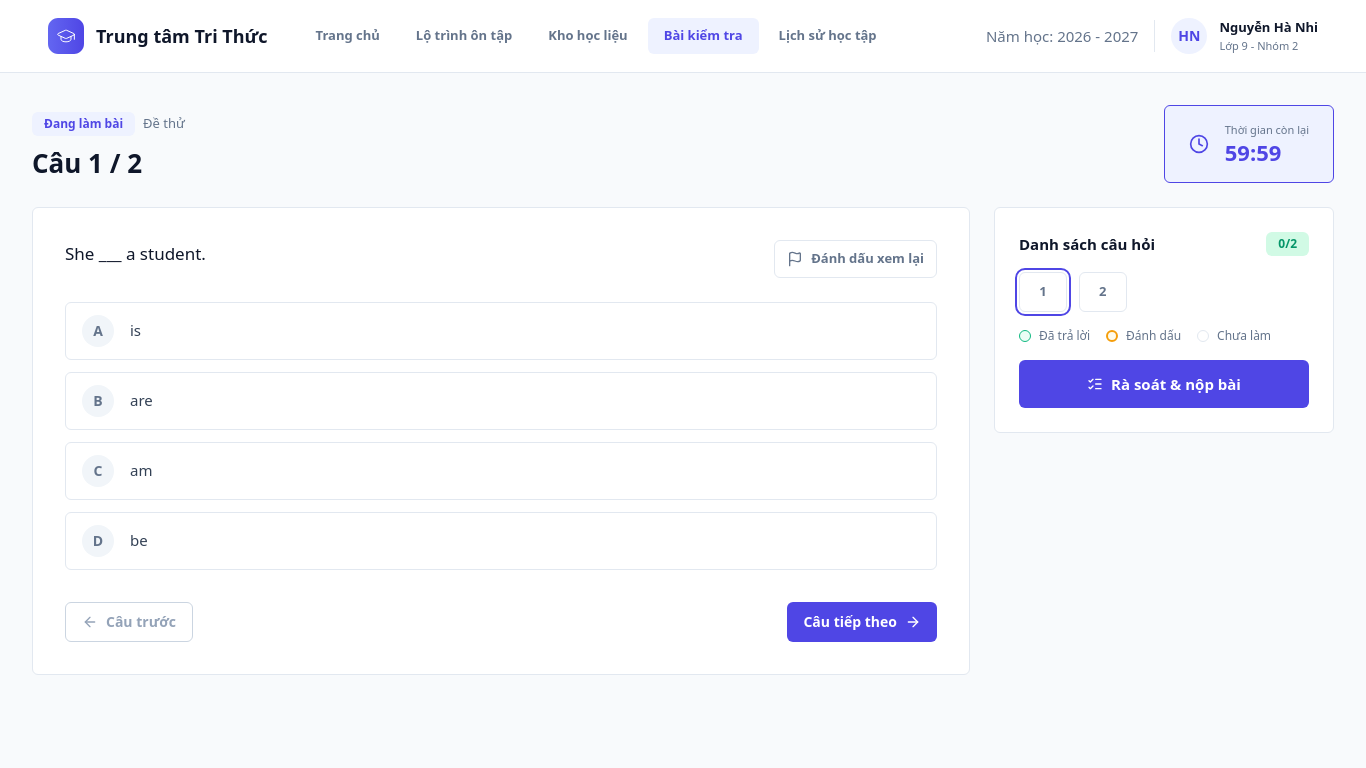
it: câu đọc hiểu hiện đoạn văn dùng chung
Expected: the text "She ___ a student." is shown, [65,240,206,268]
Click the button "Câu tiếp theo": [862, 622] box [787,602,937,642]
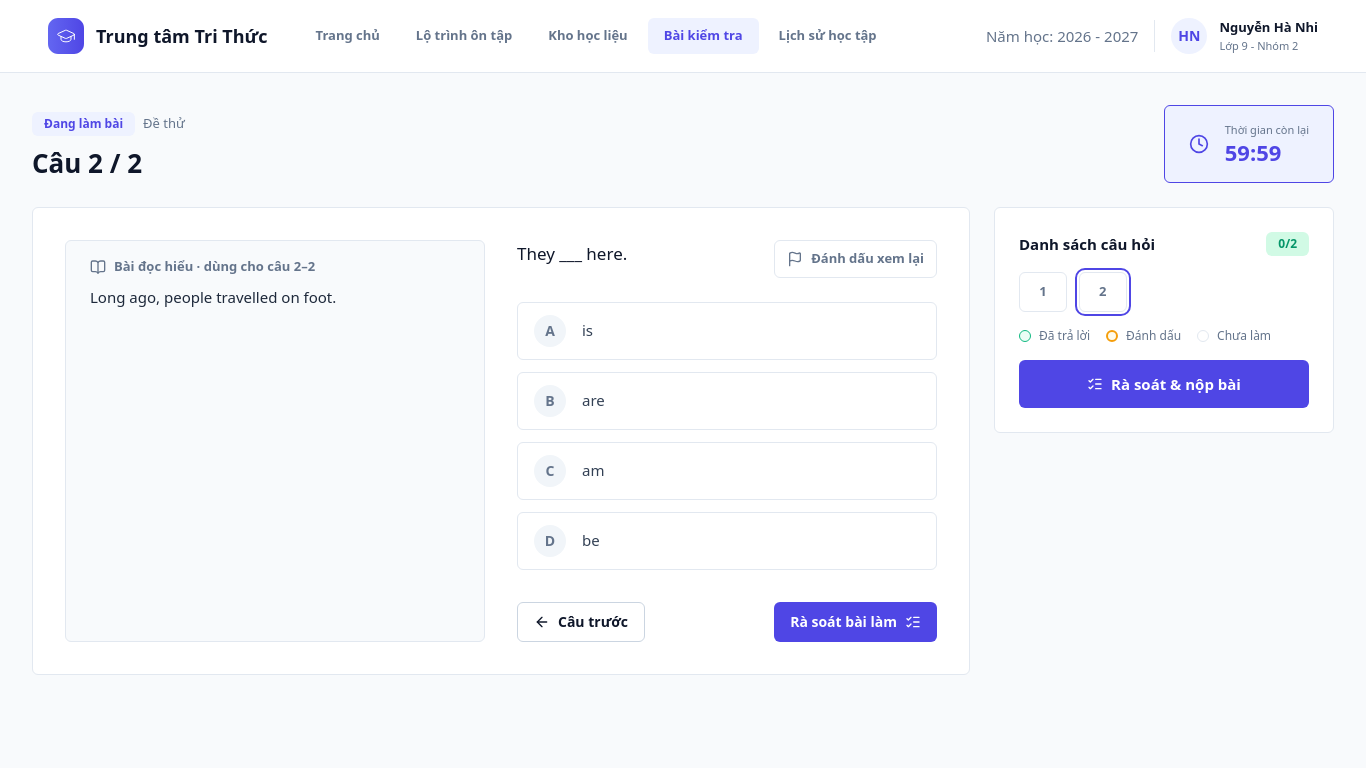
Expected: the element named "Đoạn văn" shows "Long ago, people travelled on foot.", [90,286,336,306]
Expected: the text "Bài đọc hiểu · dùng cho câu 2–2" is shown, [90,257,315,275]
